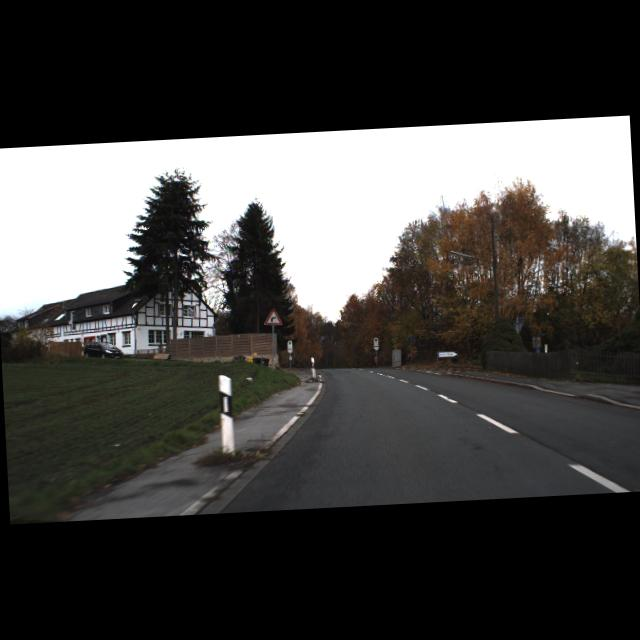danger: (264, 307, 284, 326)
